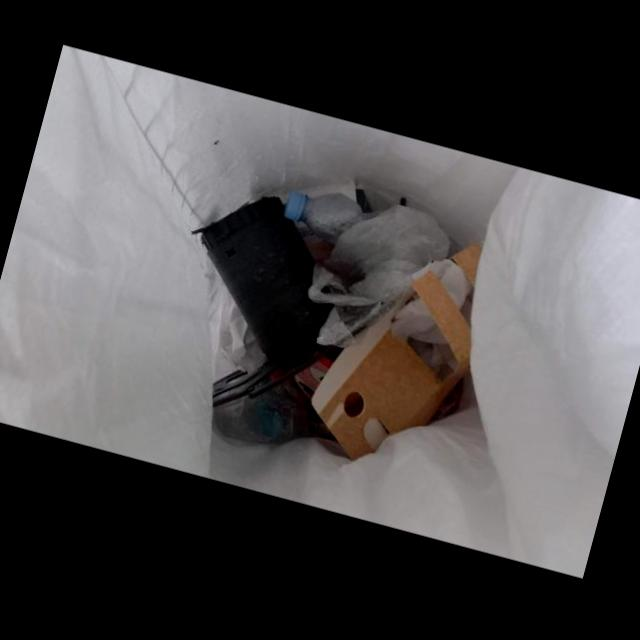carton: (310, 242, 481, 459)
chai_nhua_pet: (283, 190, 369, 239)
tui_ni_long: (307, 204, 450, 346)
